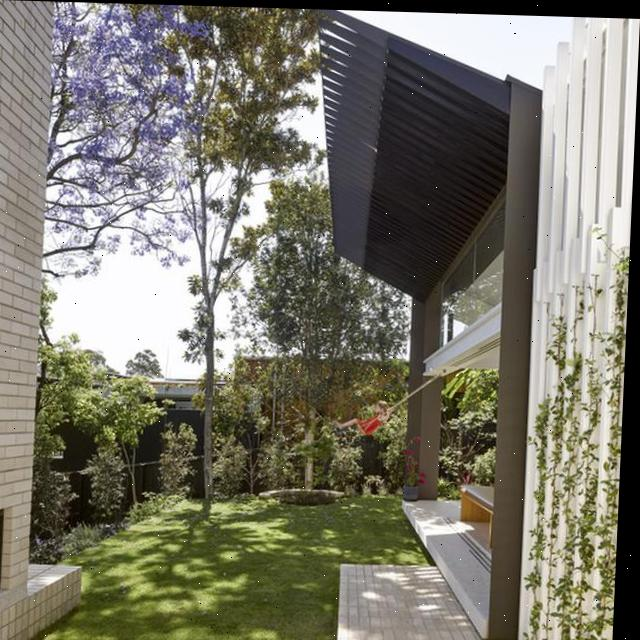building: (285, 9, 640, 640), (0, 0, 106, 640)
